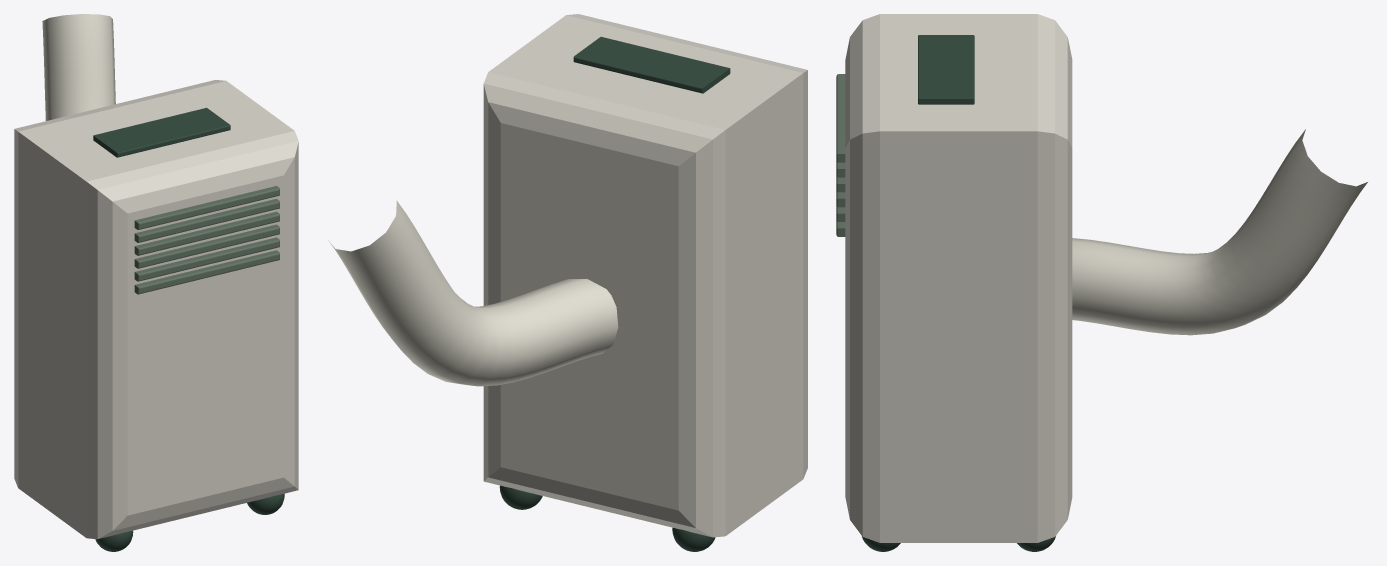
The model's file is portable-ac.glb.
3 renders of one model, left to right at view 1: azimuth 30°, elevation 25°; view 2: azimuth 150°, elevation 25°; view 3: azimuth 270°, elevation 25°, orthographic. The views are drawn at different scales.
Parts seen in each view (by area): view 1: Portable chassis, Vent (×6), Exhaust hose (routing illustrative), Control panel, Caster (×2); view 2: Portable chassis, Exhaust hose (routing illustrative), Control panel, Caster (×2); view 3: Portable chassis, Exhaust hose (routing illustrative), Control panel, Vent.
Boxes of the visible parts, bbox=[...] form: Portable chassis: bbox=[14, 80, 298, 539]; Vent (×6): bbox=[134, 186, 279, 294]; Exhaust hose (routing illustrative): bbox=[42, 14, 115, 120]; Control panel: bbox=[93, 107, 230, 157]; Caster (×2): bbox=[95, 493, 284, 551]; Portable chassis: bbox=[483, 14, 807, 537]; Exhaust hose (routing illustrative): bbox=[328, 200, 618, 386]; Control panel: bbox=[573, 36, 730, 93]; Caster (×2): bbox=[499, 485, 715, 551]; Portable chassis: bbox=[845, 14, 1072, 542]; Exhaust hose (routing illustrative): bbox=[1072, 129, 1367, 335]; Control panel: bbox=[918, 35, 974, 104]; Vent: bbox=[836, 74, 845, 162].
Size of the model in its own units: 0.4618 by 0.77 by 0.8496.
